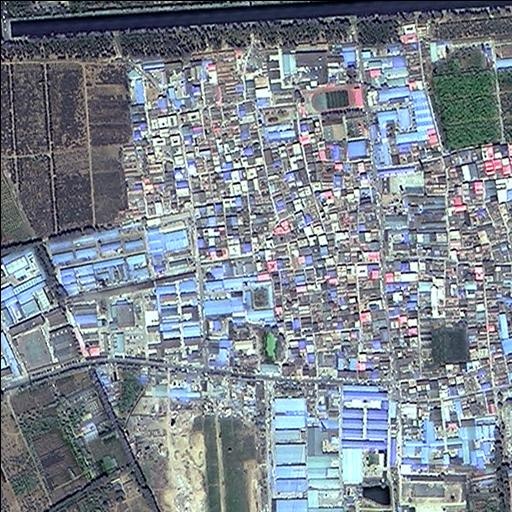school: (300, 86, 372, 137)
